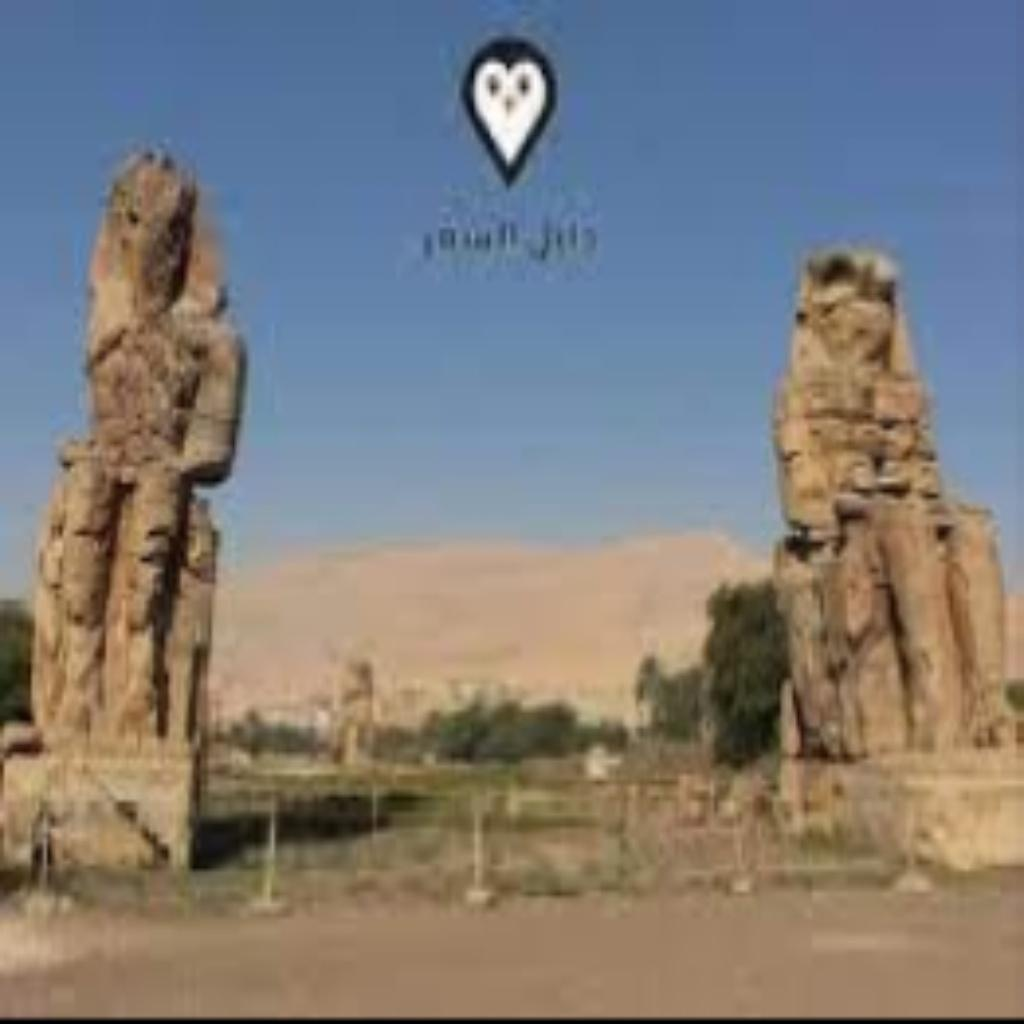Colossoi of Memnon: (4, 133, 255, 870), (769, 234, 1020, 880)
